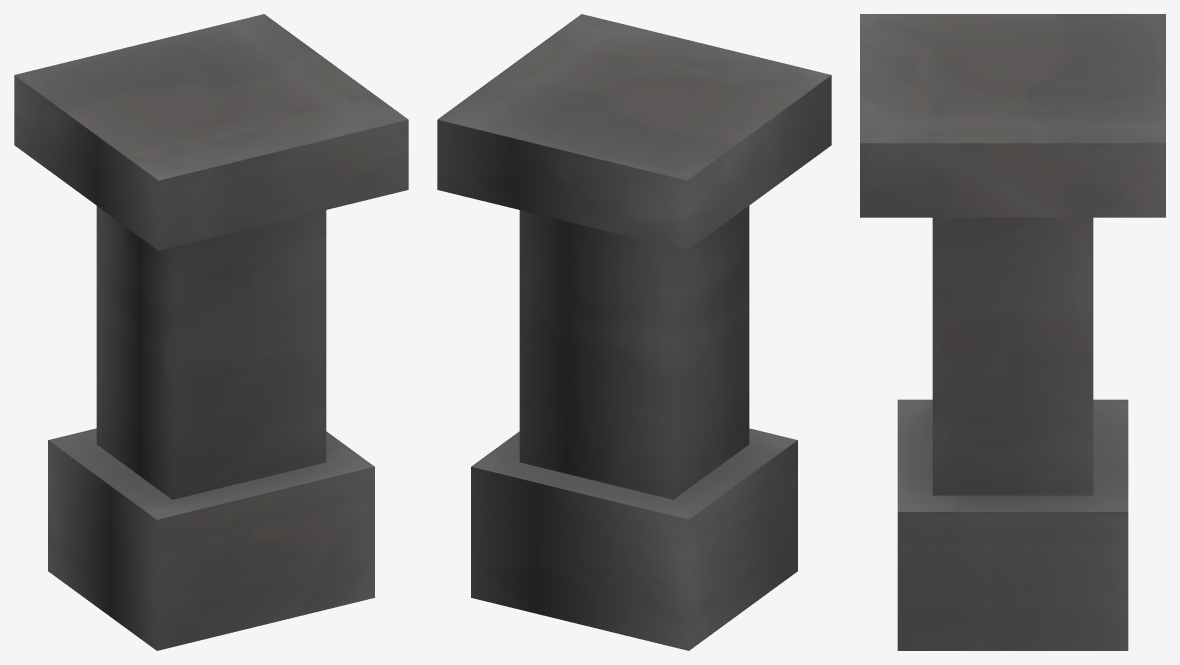
Rendered from Trim_01_Cap.fbx.
3 renders of one model, left to right at view 1: azimuth 30°, elevation 25°; view 2: azimuth 150°, elevation 25°; view 3: azimuth 270°, elevation 25°, orthographic. The views are drawn at different scales.
Parts seen in each view (by area): view 1: Trim_01_Cap; view 2: Trim_01_Cap; view 3: Trim_01_Cap.
Part boxes in pixels (x1,y1,x2,y2): Trim_01_Cap: [14, 14, 408, 650]; Trim_01_Cap: [437, 14, 831, 650]; Trim_01_Cap: [860, 14, 1165, 650].
Size of the model in its own units: 0.55 by 1.02 by 0.55.
